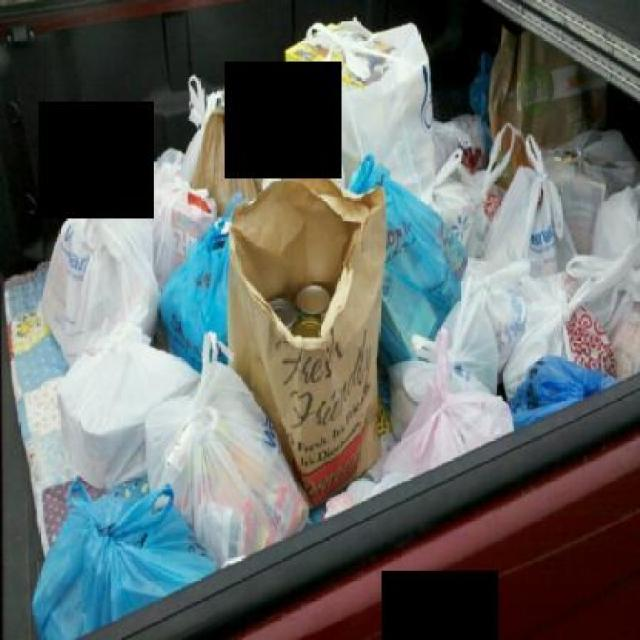plastic bag: (27, 7, 638, 638)
